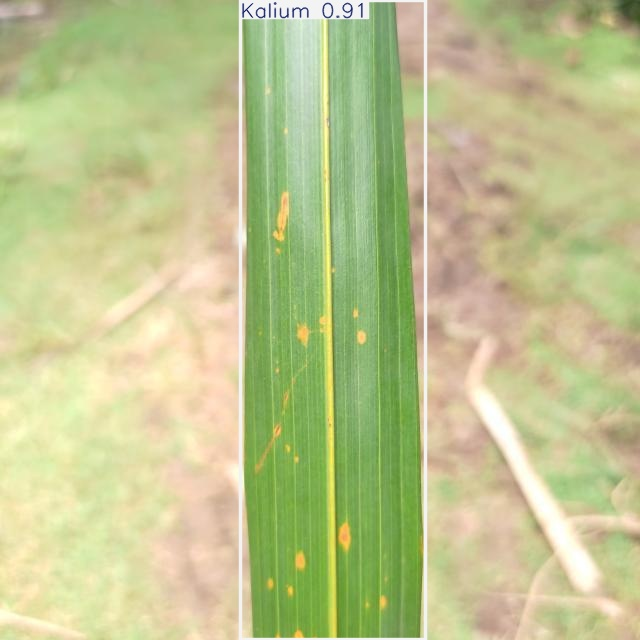Kalium: (240, 0, 425, 639)
